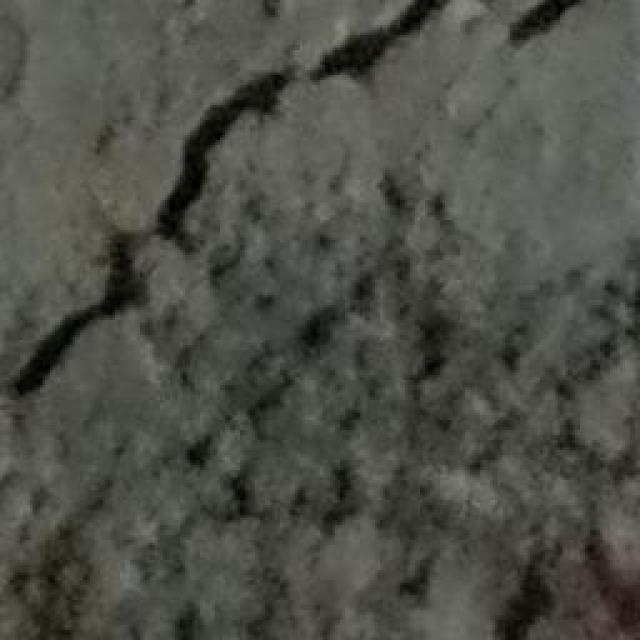Diagonal: (0, 0, 435, 428), (504, 0, 602, 47)
